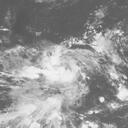cyclone: (33, 41, 82, 95)
